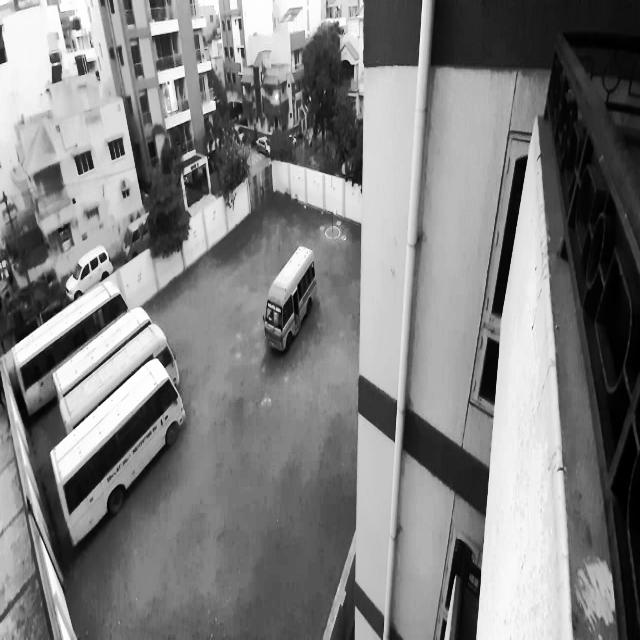Bus: (56, 387, 184, 508), (14, 280, 130, 384), (59, 336, 200, 406), (258, 238, 324, 368)
